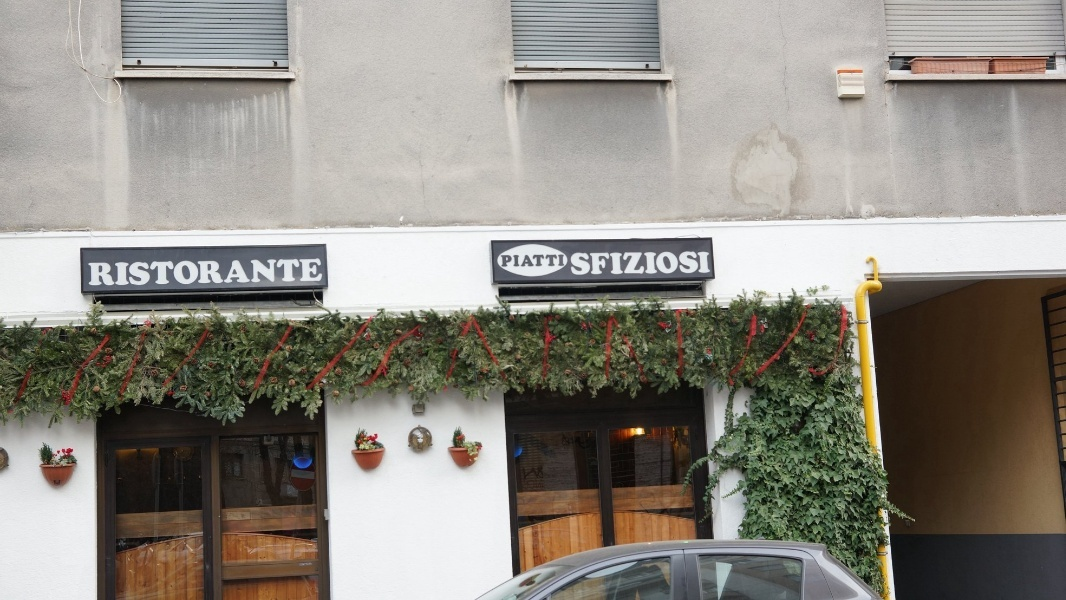text: (97, 258, 112, 286), (113, 258, 128, 286), (129, 258, 144, 286), (145, 258, 160, 286), (161, 258, 176, 286), (177, 258, 192, 286), (193, 258, 208, 286), (209, 258, 224, 286), (225, 258, 240, 286), (241, 258, 256, 286), (257, 258, 272, 286), (273, 258, 288, 286), (289, 258, 304, 286), (305, 258, 320, 286), (577, 252, 592, 276), (593, 252, 608, 276), (609, 252, 624, 276), (625, 252, 640, 276), (641, 252, 656, 276), (657, 252, 672, 276), (673, 252, 688, 276), (689, 252, 704, 276), (88, 258, 96, 286), (529, 466, 544, 480), (513, 255, 528, 267), (529, 255, 544, 267), (545, 255, 560, 267), (529, 479, 545, 489), (502, 255, 512, 267), (571, 252, 576, 276), (705, 252, 710, 276), (523, 466, 528, 480), (561, 255, 565, 267), (524, 479, 528, 489), (321, 258, 322, 286)
